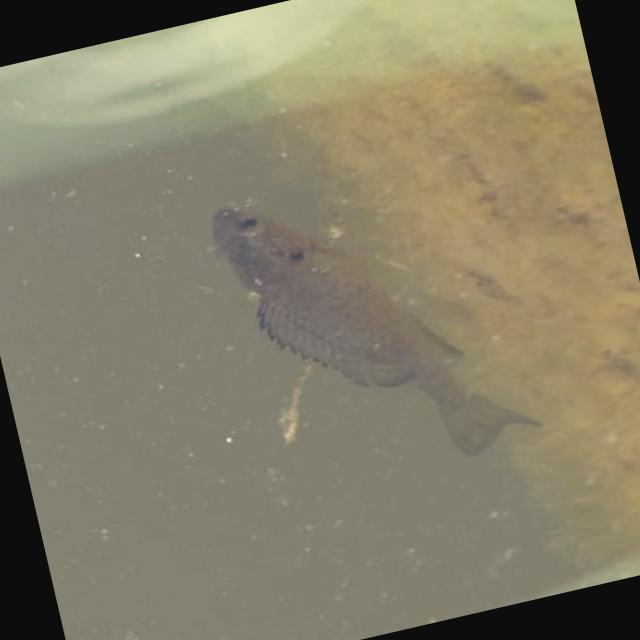Gunes Levregi: (196, 141, 548, 506)
